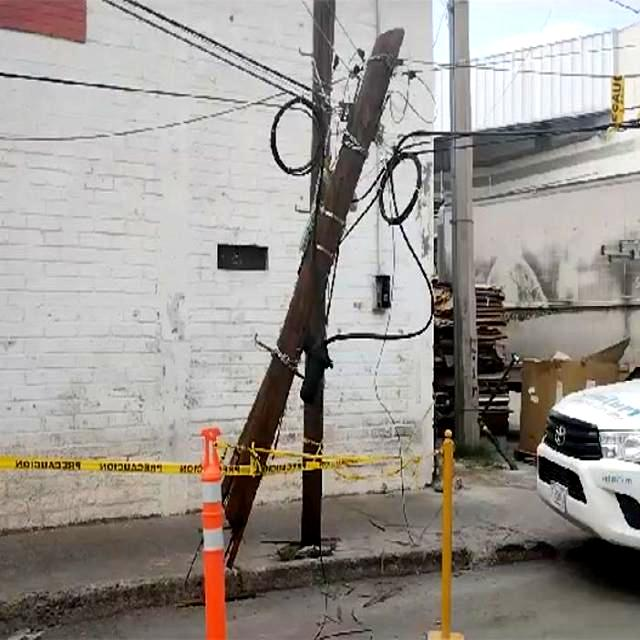Broken Pole: (217, 28, 406, 562)
